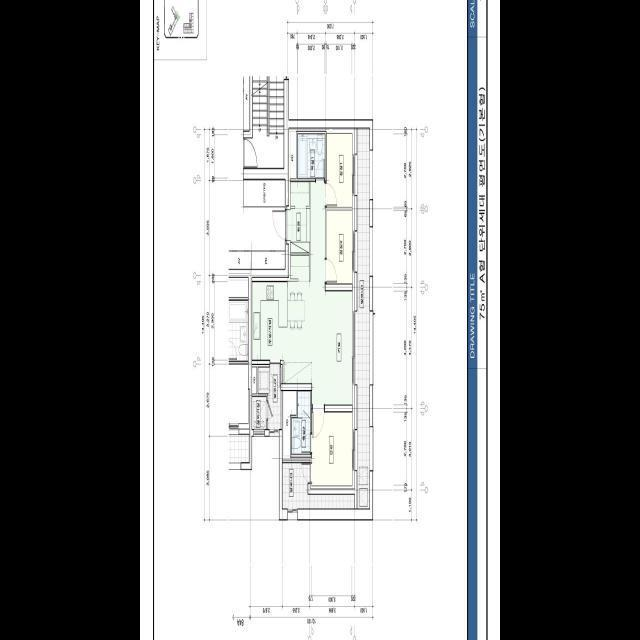background: (153, 0, 487, 640)
space_balconi: (355, 128, 370, 508), (282, 462, 354, 508), (258, 363, 281, 429)
space_bedroom: (312, 412, 352, 485), (326, 133, 352, 207), (326, 210, 352, 283)
space_front: (286, 181, 310, 253)
space_kitchen: (252, 255, 312, 383)
space_living_room: (312, 283, 352, 404)
space_other: (310, 181, 325, 283), (244, 179, 285, 206), (282, 390, 296, 459), (252, 251, 285, 268), (289, 128, 296, 180), (252, 367, 257, 393)
space_outdoor_room: (252, 396, 266, 429)
space_staircase: (244, 76, 284, 167)
space_toilet: (298, 134, 325, 177), (292, 391, 310, 453)
